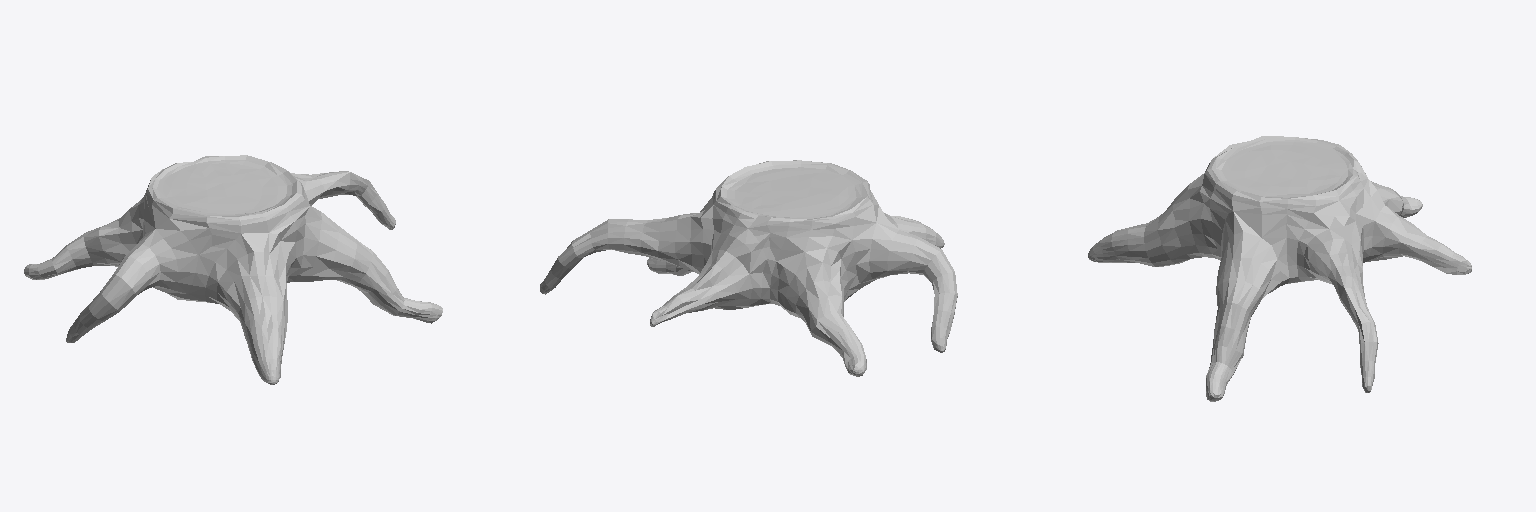
Rendered from Tree Stump.obj.
3 renders of one model, left to right at view 1: azimuth 30°, elevation 25°; view 2: azimuth 150°, elevation 25°; view 3: azimuth 270°, elevation 25°, orthographic.
Parts seen in each view (by area): view 1: Group46688; view 2: Group46688; view 3: Group46688.
Part boxes in pixels (bbox=[...]): Group46688: bbox=[24, 155, 442, 384]; Group46688: bbox=[540, 160, 957, 376]; Group46688: bbox=[1088, 136, 1471, 401].
Size of the model in its own units: 5.69 by 2.25 by 5.16.